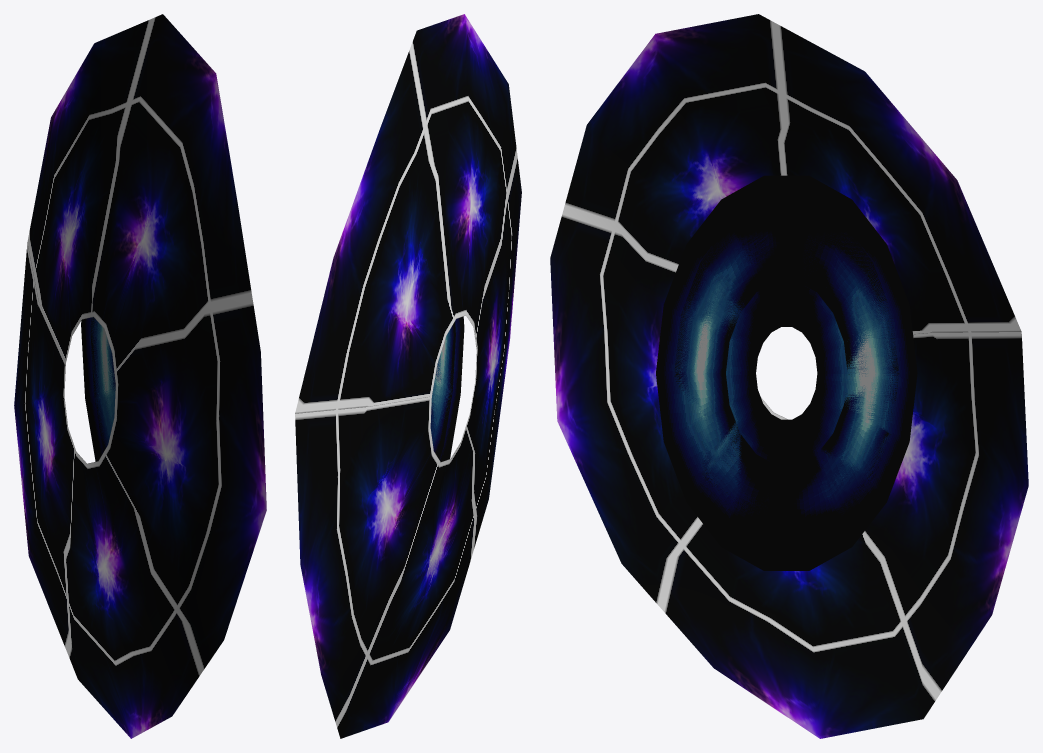
The model's file is effect.FBX.
3 renders of one model, left to right at view 1: azimuth 30°, elevation 25°; view 2: azimuth 150°, elevation 25°; view 3: azimuth 270°, elevation 25°, orthographic. The views are drawn at different scales.
Visible parts, largest first — view 1: 007, 002; view 2: 007, 002; view 3: 007, 002.
Boxes of the visible parts, box(x1,y1,x2,y2) form: 007: box(14, 14, 266, 738); 002: box(81, 317, 115, 461); 007: box(295, 14, 521, 738); 002: box(430, 316, 464, 461); 007: box(550, 14, 1028, 738); 002: box(656, 175, 917, 570).
Bounding box in the file's own units: 0.7227 × 9.05 × 5.42.
